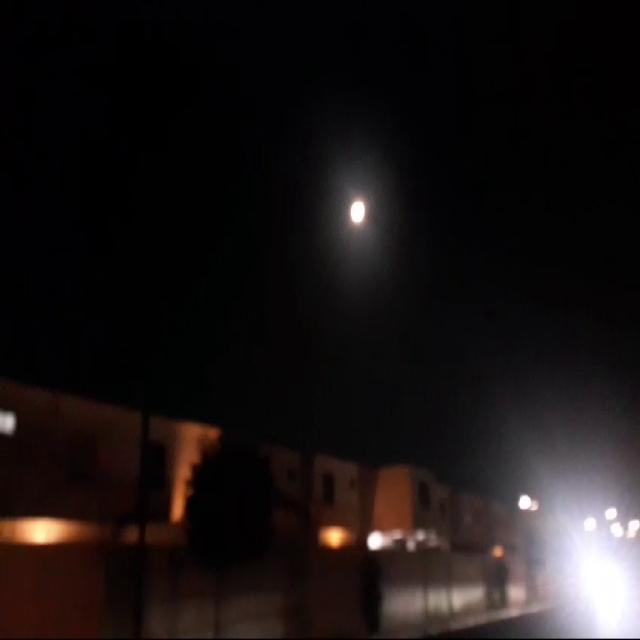moon: (346, 195, 365, 229)
